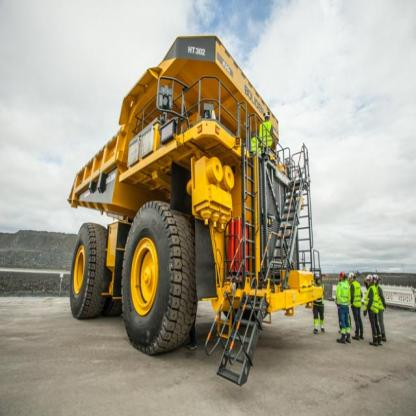dump_truck: (74, 32, 322, 379)
person: (365, 271, 384, 350), (336, 268, 351, 344), (348, 272, 364, 341)
